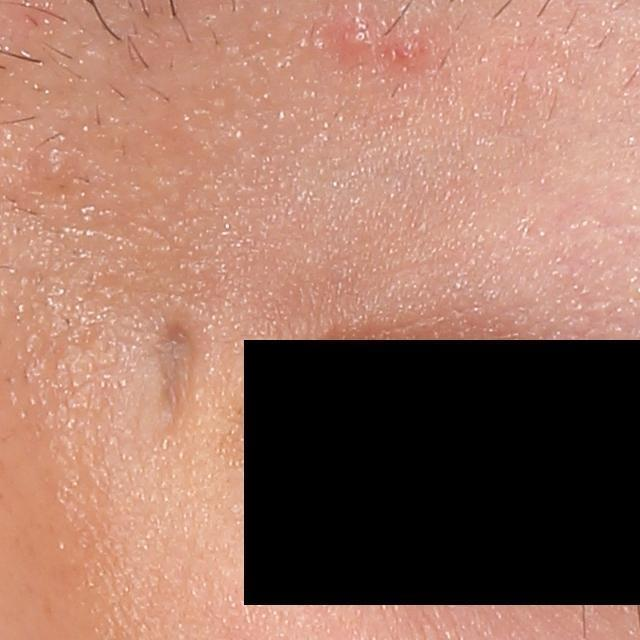other: (135, 312, 215, 447)
papule: (311, 4, 430, 76)
